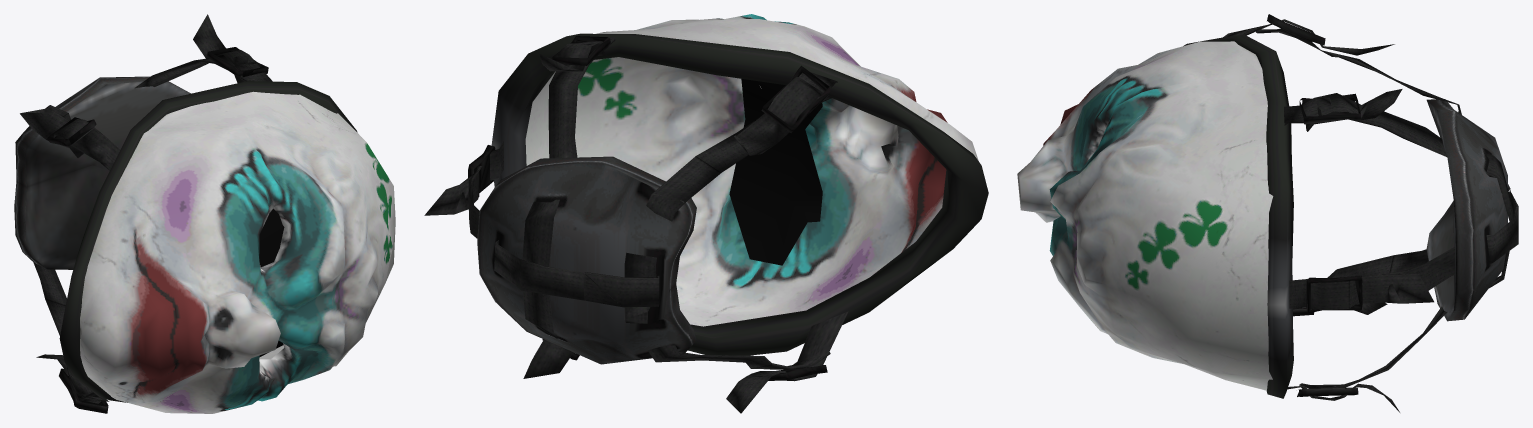
The model's file is F_PaydayCloverMask.fbx.
The picture shows the model from 3 angles, left to right: view 1: azimuth 30°, elevation 25°; view 2: azimuth 150°, elevation 25°; view 3: azimuth 270°, elevation 25°; orthographic projection. The views are drawn at different scales.
Visible parts, largest first — view 1: CloverMask.001; view 2: CloverMask.001; view 3: CloverMask.001.
Boxes of the visible parts, bbox=[...] form: CloverMask.001: bbox=[14, 14, 395, 413]; CloverMask.001: bbox=[424, 14, 988, 413]; CloverMask.001: bbox=[1017, 14, 1518, 412].
Size of the model in its own units: 0.1624 by 0.1243 by 0.1769.
